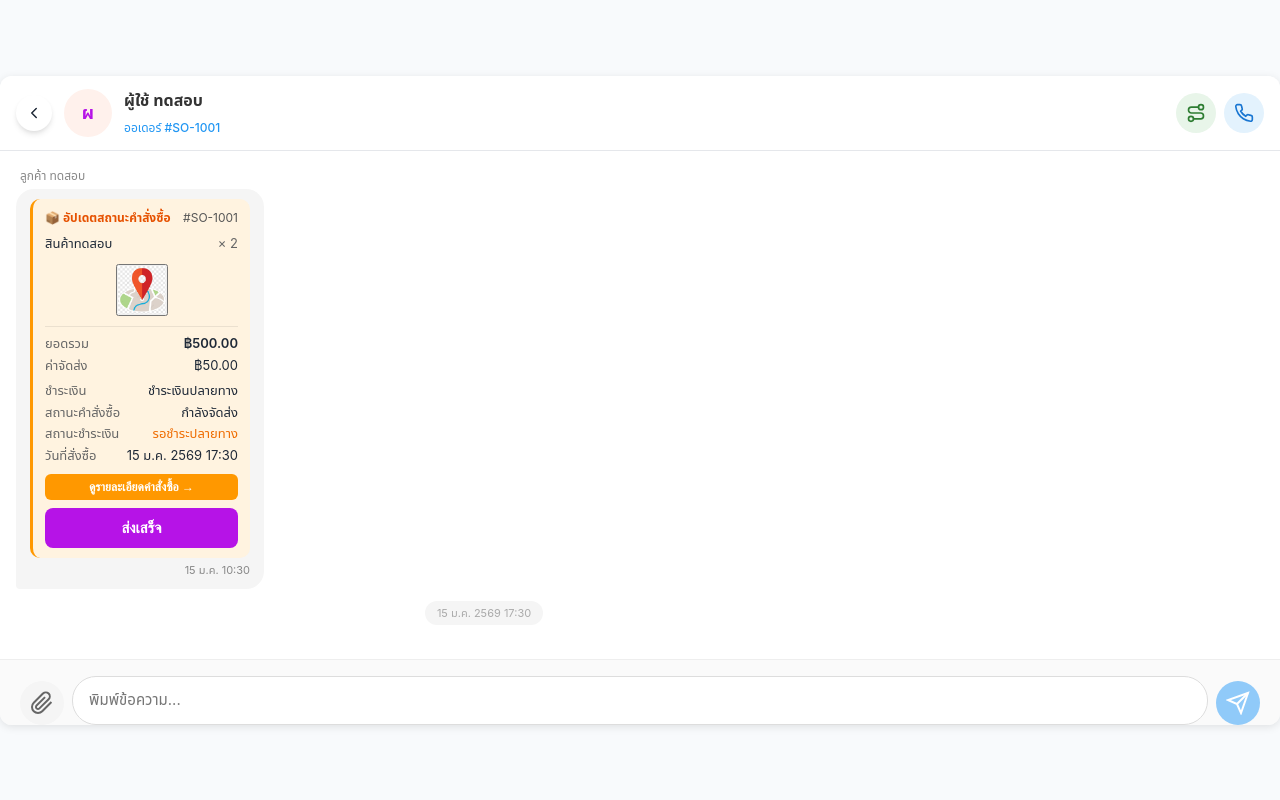
ChatRoom - ส่งเสร็จออเดอร์ (สถานะชำระเงิน COD) › API ผิดพลาด ไม่อ้างว่ารับเงินแล้ว และยังแสดง รอชำระปลายทาง
What coordinates should you click on to do the following:
click the button "ส่งเสร็จ"
I would click on:
 (142, 528)
Its box is [45, 508, 238, 548].
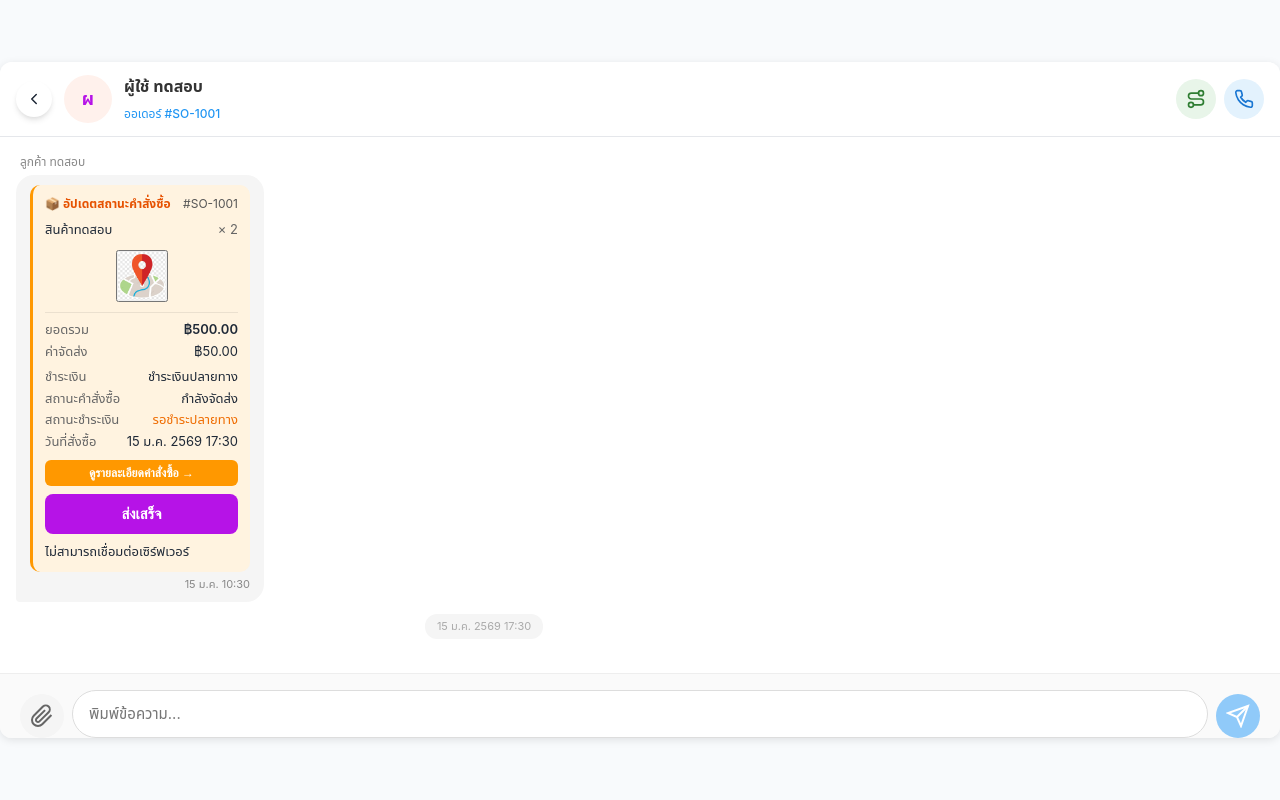
Check: the text "รอชำระปลายทาง" is shown, box [153, 410, 238, 430]
Check: the text "ไม่สามารถเชื่อมต่อเซิร์ฟเวอร์" is shown, box [45, 543, 189, 559]
